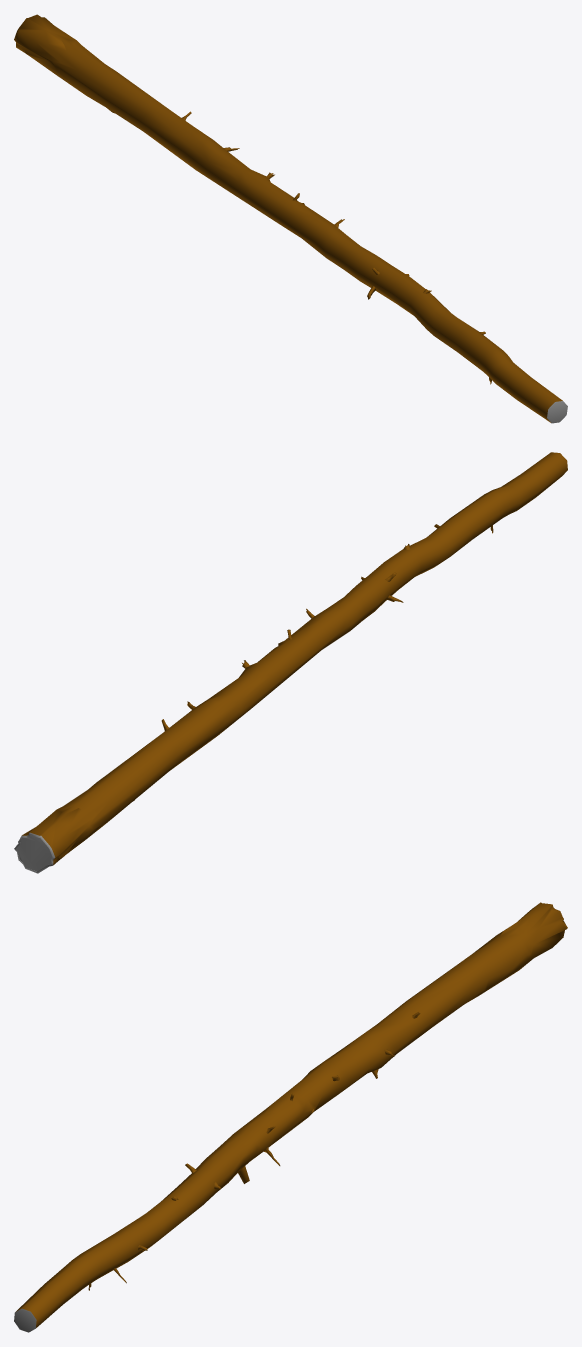
Rendered from Forest_Pine_09_log.FBX.
3 views of the same model, one above another, from view 1: azimuth 30°, elevation 25°; view 2: azimuth 150°, elevation 25°; view 3: azimuth 330°, elevation 25° (orthographic). The views are drawn at different scales.
Visible parts, largest first — view 1: Forest_Pine_09_log_LOD0; view 2: Forest_Pine_09_log_LOD0; view 3: Forest_Pine_09_log_LOD0.
Part boxes in pixels (x1,y1,x2,y2): Forest_Pine_09_log_LOD0: (14, 14, 567, 423); Forest_Pine_09_log_LOD0: (14, 452, 567, 873); Forest_Pine_09_log_LOD0: (14, 902, 567, 1332).
Size of what is drawn, in the model's own units: 33.77 by 558 by 29.17.
